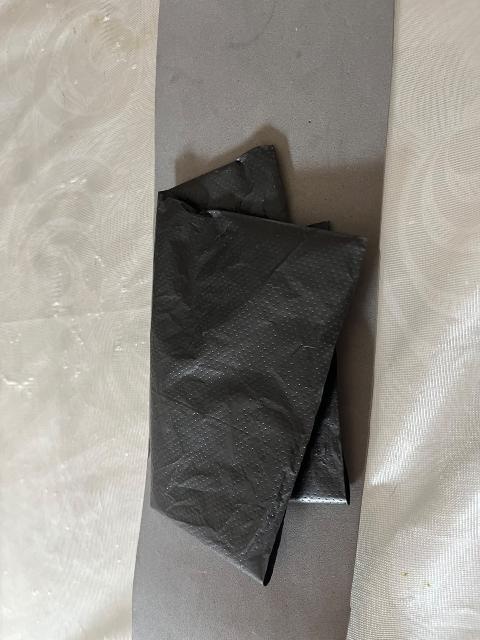LDPE: (116, 95, 399, 582)
